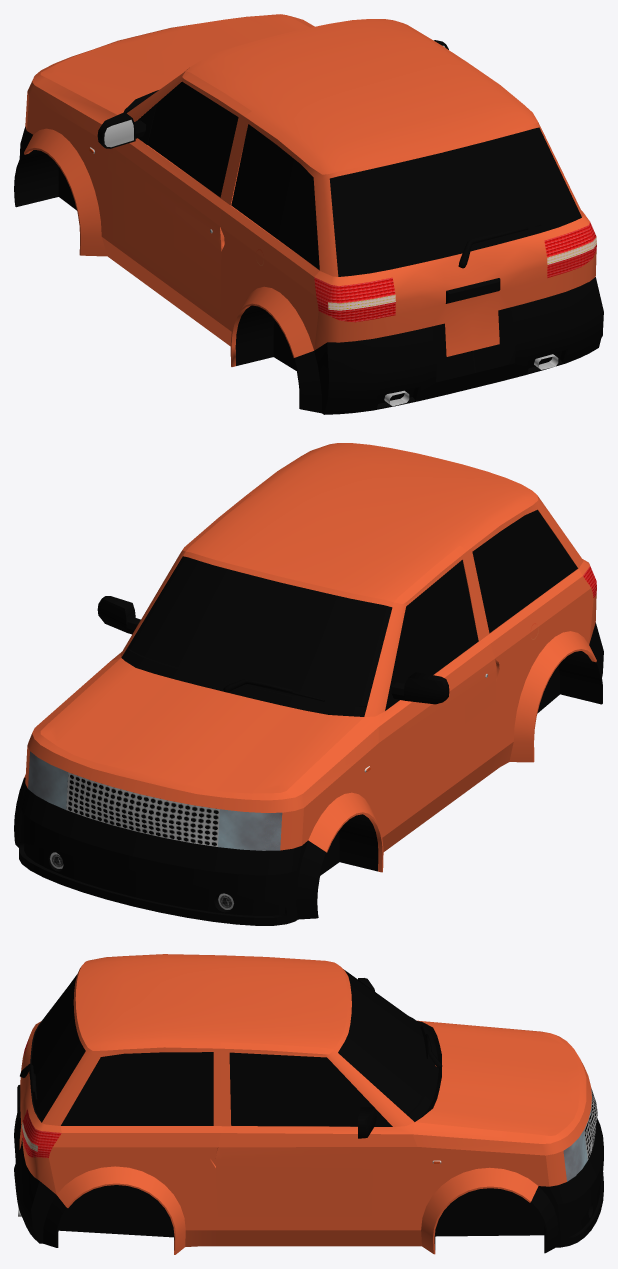
3 renders of one model, top to bottom at view 1: azimuth 30°, elevation 25°; view 2: azimuth 150°, elevation 25°; view 3: azimuth 270°, elevation 25°, orthographic. The views are drawn at different scales.
Parts seen in each view (by area): view 1: CarBody; view 2: CarBody; view 3: CarBody.
Part boxes in pixels (box(x1,y1,x2,y2)): CarBody: box(14, 14, 603, 414); CarBody: box(14, 443, 603, 925); CarBody: box(14, 954, 603, 1254).
Bounding box in the file's own units: 210 × 134 × 360.
Materials: 3 (3 with a texture image).
